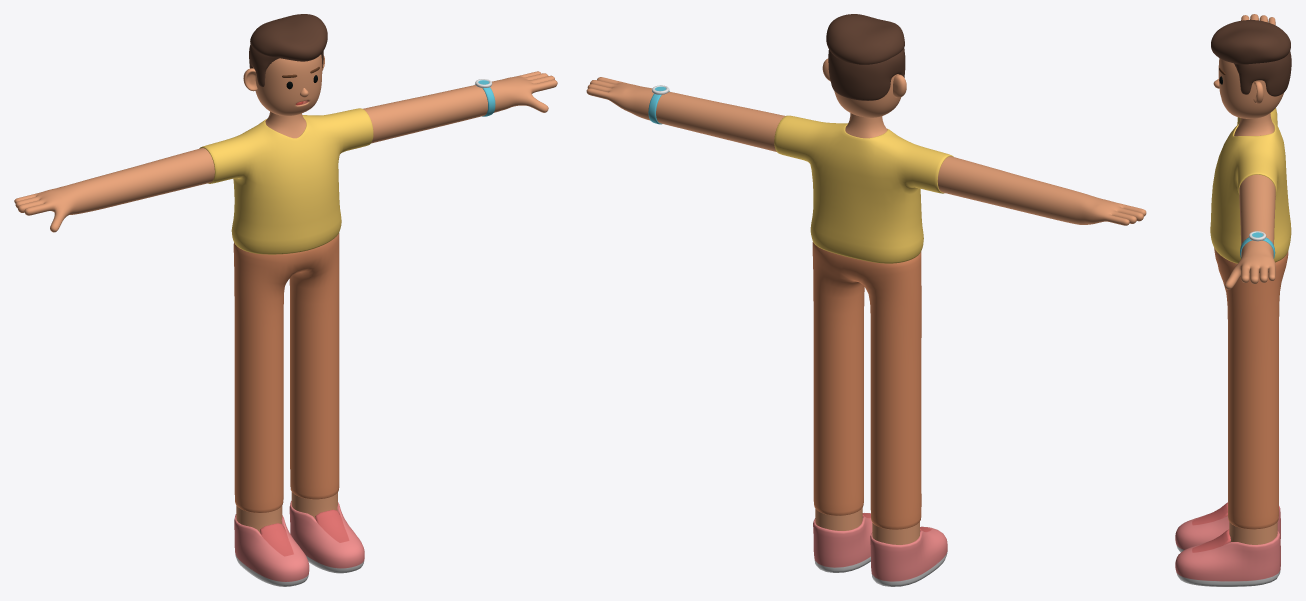
The model's file is BOY 1.fbx.
3 renders of one model, left to right at view 1: azimuth 30°, elevation 25°; view 2: azimuth 150°, elevation 25°; view 3: azimuth 270°, elevation 25°, orthographic. The views are drawn at different scales.
Visible parts, largest first — view 1: BOY 1_PANTS, BOY_BODY.001, BOY 1_SHIRT, BOY_1_SHOES.R, BOY_1_SHOES.L, BOY 1_HAIR; view 2: BOY 1_PANTS, BOY_BODY.001, BOY 1_SHIRT, BOY 1_HAIR, BOY_1_SHOES.R, BOY_1_SHOES.L; view 3: BOY 1_PANTS, BOY_BODY.001, BOY 1_SHIRT, BOY_1_SHOES.L, BOY 1_HAIR, BOY_1_SHOES.R, BOY 1_WATCH.
Boxes of the visible parts, left/top/right/bottom form: BOY 1_PANTS: left=233, top=233, right=339, bottom=512; BOY_BODY.001: left=14, top=54, right=557, bottom=532; BOY 1_SHIRT: left=199, top=108, right=373, bottom=254; BOY_1_SHOES.R: left=234, top=514, right=309, bottom=586; BOY_1_SHOES.L: left=289, top=501, right=364, bottom=573; BOY 1_HAIR: left=249, top=14, right=327, bottom=86; BOY 1_PANTS: left=812, top=242, right=921, bottom=529; BOY_BODY.001: left=586, top=58, right=1146, bottom=544; BOY 1_SHIRT: left=774, top=115, right=953, bottom=263; BOY 1_HAIR: left=826, top=14, right=905, bottom=100; BOY_1_SHOES.R: left=870, top=526, right=947, bottom=586; BOY_1_SHOES.L: left=813, top=513, right=872, bottom=572; BOY 1_PANTS: left=1214, top=248, right=1288, bottom=529; BOY_BODY.001: left=1213, top=14, right=1283, bottom=544; BOY 1_SHIRT: left=1210, top=108, right=1291, bottom=263; BOY_1_SHOES.L: left=1175, top=529, right=1280, bottom=586; BOY 1_HAIR: left=1211, top=20, right=1291, bottom=96; BOY_1_SHOES.R: left=1175, top=502, right=1280, bottom=552; BOY 1_WATCH: left=1240, top=231, right=1275, bottom=258.
Size of the model in its own units: 205 by 193 by 37.93.
10 materials, 7 textured.
